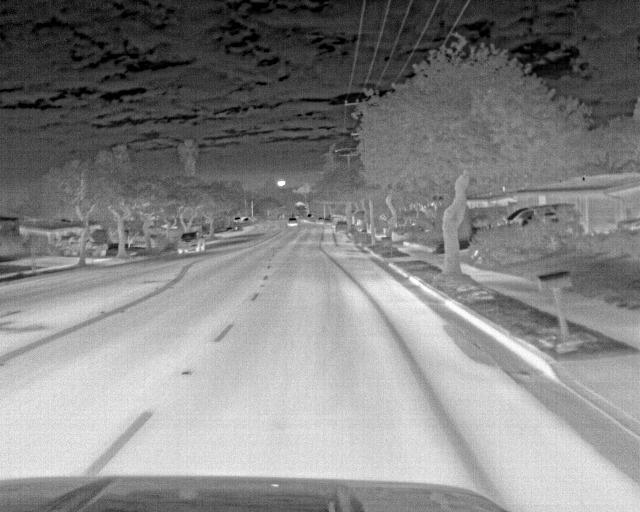car: (504, 201, 580, 225), (517, 213, 585, 231), (176, 230, 208, 253), (334, 219, 349, 233), (286, 213, 301, 226)
